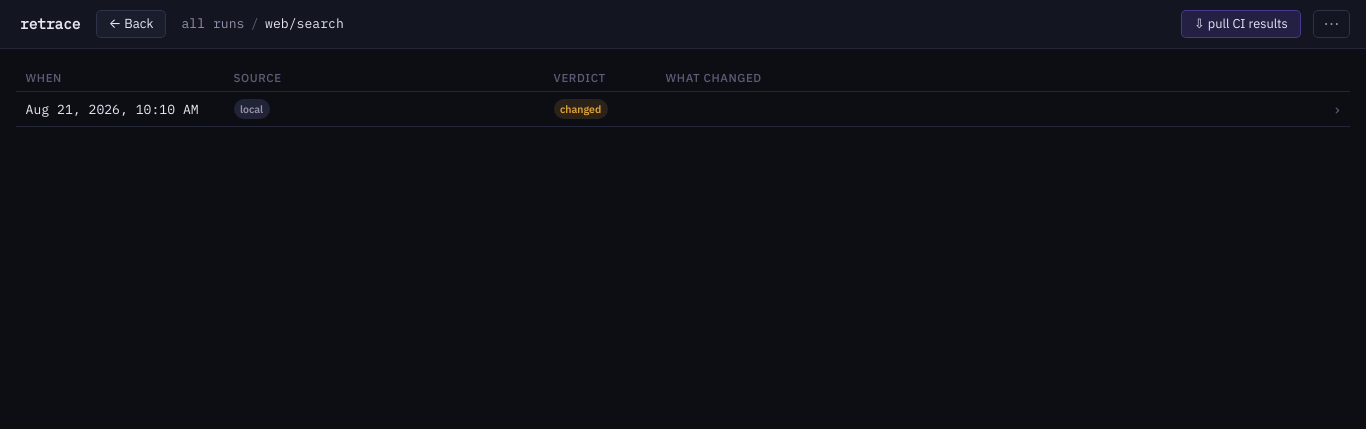
the three verbs › the r key POSTs to reject, and says what it wrote
Click the text "Aug 21, 2026, 10:10 AM": (112, 109) [26,101,199,118]
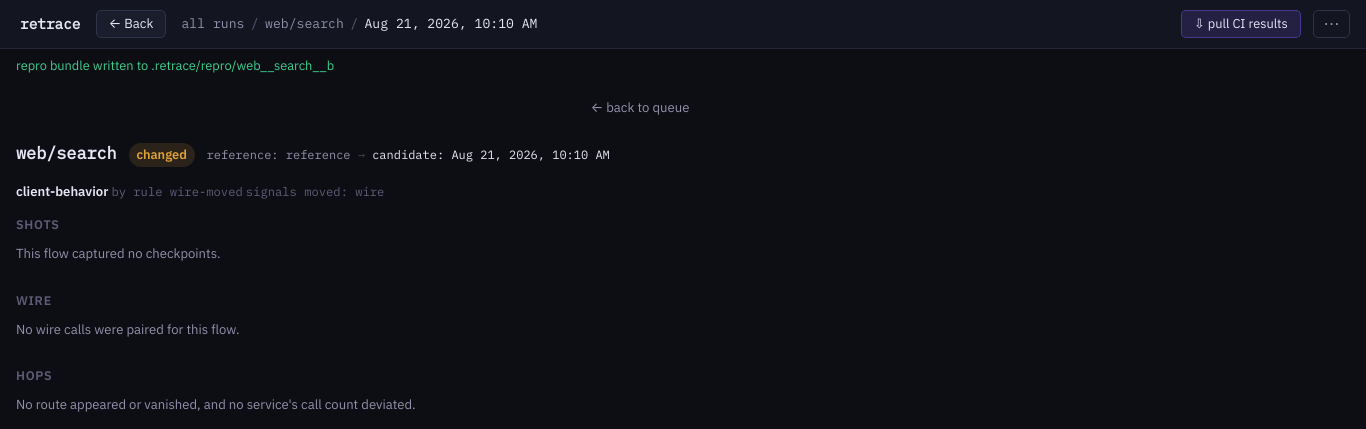
Now the text with class "notice" shows ".retrace/repro/web__search__b", box [16,57,334,74]
